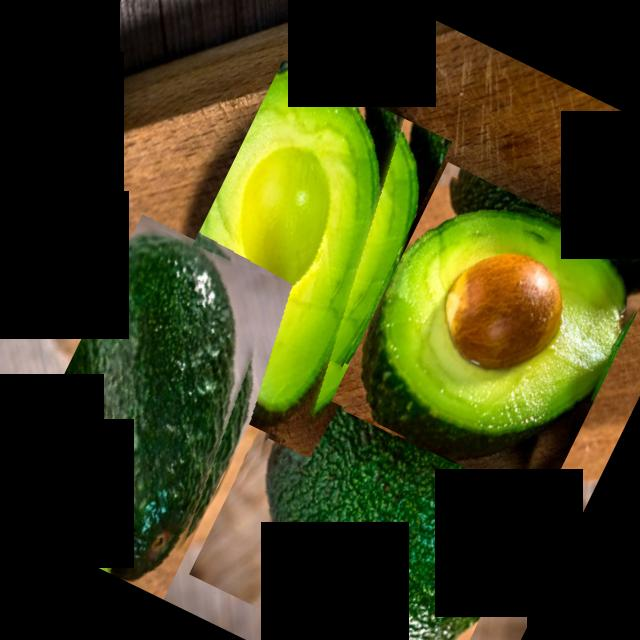avocado: (132, 59, 452, 450), (0, 214, 310, 599), (188, 341, 554, 640), (330, 161, 640, 503)
